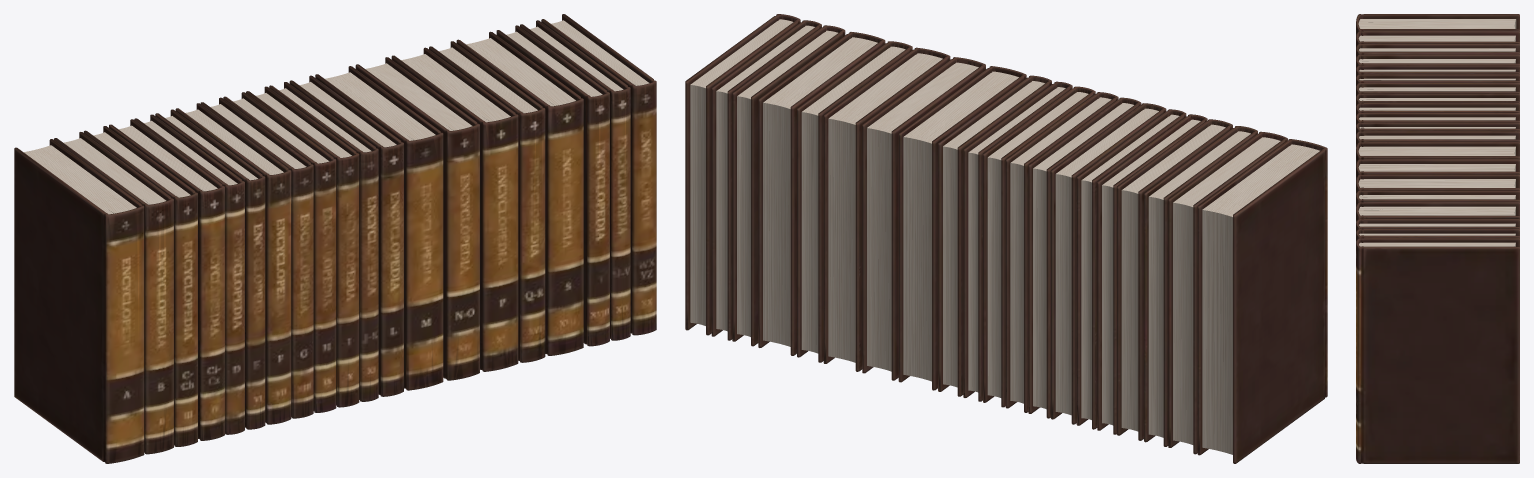
The model's file is book-set-medium.glb.
3 views of the same model, side by side, from view 1: azimuth 30°, elevation 25°; view 2: azimuth 150°, elevation 25°; view 3: azimuth 270°, elevation 25° (orthographic). The views are drawn at different scales.
Visible parts, largest first — view 1: book_encyclopedia_set_01_book01, book_encyclopedia_set_01_book13, book_encyclopedia_set_01_book15, book_encyclopedia_set_01_book17, book_encyclopedia_set_01_book14, book_encyclopedia_set_01_book02, book_encyclopedia_set_01_book16, book_encyclopedia_set_01_book04, book_encyclopedia_set_01_book18, book_encyclopedia_set_01_book20, book_encyclopedia_set_01_book07, book_encyclopedia_set_01_book12 (+8 smaller); view 2: book_encyclopedia_set_01_book01, book_encyclopedia_set_01_book13, book_encyclopedia_set_01_book15, book_encyclopedia_set_01_book17, book_encyclopedia_set_01_book14, book_encyclopedia_set_01_book02, book_encyclopedia_set_01_book04, book_encyclopedia_set_01_book16, book_encyclopedia_set_01_book18, book_encyclopedia_set_01_book20, book_encyclopedia_set_01_book07, book_encyclopedia_set_01_book12 (+8 smaller); view 3: book_encyclopedia_set_01_book20, book_encyclopedia_set_01_book13, book_encyclopedia_set_01_book01, book_encyclopedia_set_01_book17, book_encyclopedia_set_01_book15, book_encyclopedia_set_01_book14, book_encyclopedia_set_01_book02, book_encyclopedia_set_01_book16, book_encyclopedia_set_01_book03, book_encyclopedia_set_01_book12, book_encyclopedia_set_01_book07, book_encyclopedia_set_01_book04 (+8 smaller).
Boxes of the visible parts, x1,y1,x2,y2 form: book_encyclopedia_set_01_book01: [14, 139, 144, 463]; book_encyclopedia_set_01_book13: [315, 66, 443, 390]; book_encyclopedia_set_01_book15: [391, 47, 518, 371]; book_encyclopedia_set_01_book17: [456, 31, 583, 355]; book_encyclopedia_set_01_book14: [355, 57, 479, 380]; book_encyclopedia_set_01_book02: [54, 132, 173, 454]; book_encyclopedia_set_01_book16: [429, 41, 545, 362]; book_encyclopedia_set_01_book04: [109, 119, 224, 440]; book_encyclopedia_set_01_book18: [496, 25, 609, 346]; book_encyclopedia_set_01_book20: [541, 14, 656, 335]; book_encyclopedia_set_01_book07: [175, 103, 291, 424]; book_encyclopedia_set_01_book12: [289, 75, 403, 396]; book_encyclopedia_set_01_book01: [1197, 139, 1327, 463]; book_encyclopedia_set_01_book13: [898, 66, 1026, 390]; book_encyclopedia_set_01_book15: [823, 47, 950, 371]; book_encyclopedia_set_01_book17: [758, 32, 885, 355]; book_encyclopedia_set_01_book14: [862, 57, 985, 380]; book_encyclopedia_set_01_book02: [1168, 131, 1287, 454]; book_encyclopedia_set_01_book04: [1117, 119, 1232, 440]; book_encyclopedia_set_01_book16: [797, 41, 912, 362]; book_encyclopedia_set_01_book18: [732, 25, 845, 346]; book_encyclopedia_set_01_book20: [685, 14, 800, 335]; book_encyclopedia_set_01_book07: [1051, 103, 1166, 424]; book_encyclopedia_set_01_book12: [938, 75, 1051, 396]; book_encyclopedia_set_01_book20: [1356, 238, 1519, 463]; book_encyclopedia_set_01_book13: [1356, 142, 1519, 164]; book_encyclopedia_set_01_book01: [1356, 14, 1519, 35]; book_encyclopedia_set_01_book17: [1356, 202, 1519, 222]; book_encyclopedia_set_01_book15: [1356, 174, 1519, 194]; book_encyclopedia_set_01_book14: [1356, 159, 1519, 180]; book_encyclopedia_set_01_book02: [1356, 30, 1519, 47]; book_encyclopedia_set_01_book16: [1356, 190, 1519, 208]; book_encyclopedia_set_01_book03: [1356, 43, 1519, 58]; book_encyclopedia_set_01_book12: [1356, 131, 1519, 148]; book_encyclopedia_set_01_book07: [1356, 82, 1519, 96]; book_encyclopedia_set_01_book04: [1356, 54, 1519, 68].
Size of the model in its own units: 0.5513 by 0.2374 by 0.1631.
Materials: 2 (2 with a texture image).
